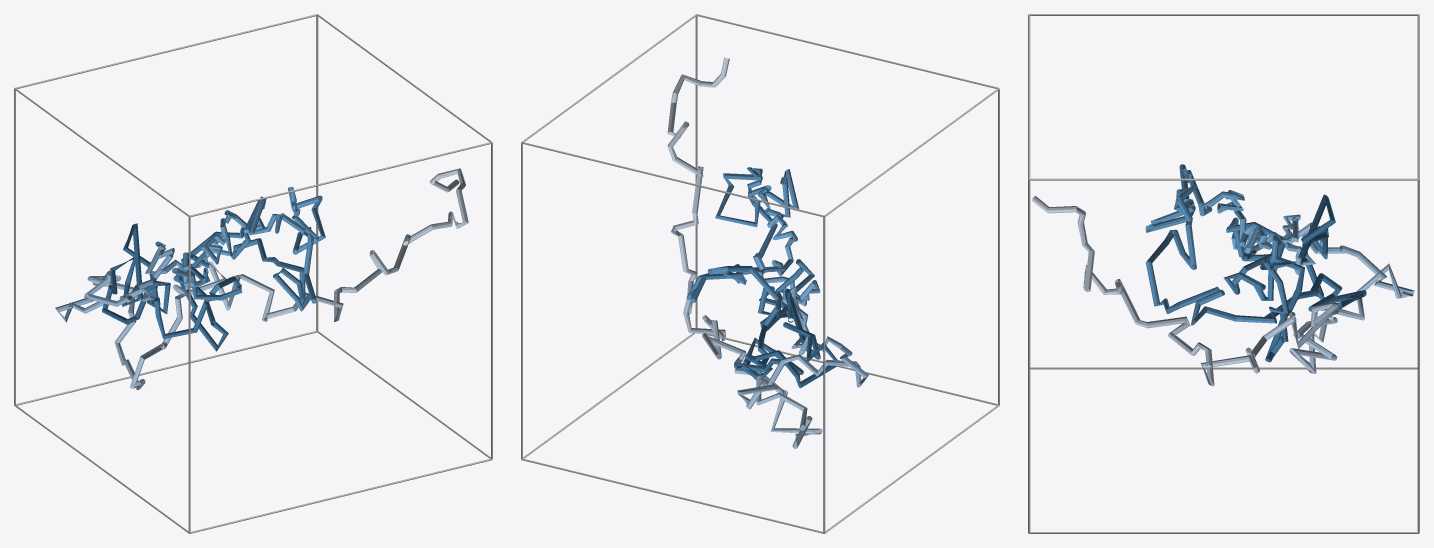
3 renders of one model, left to right at view 1: azimuth 30°, elevation 25°; view 2: azimuth 150°, elevation 25°; view 3: azimuth 270°, elevation 25°, orthographic. The views are drawn at different scales.
Parts seen in each view (by area): view 1: geometry_0, geometry_1; view 2: geometry_0, geometry_1; view 3: geometry_0, geometry_1.
Boxes of the visible parts, box(x1,y1,x2,y2) form: geometry_0: box(55, 168, 468, 390); geometry_1: box(14, 14, 492, 533); geometry_0: box(667, 57, 868, 448); geometry_1: box(521, 14, 999, 533); geometry_0: box(1032, 164, 1414, 386); geometry_1: box(1028, 14, 1419, 533).
Bounding box in the file's own units: 0.3039 × 0.3014 × 0.3016.
